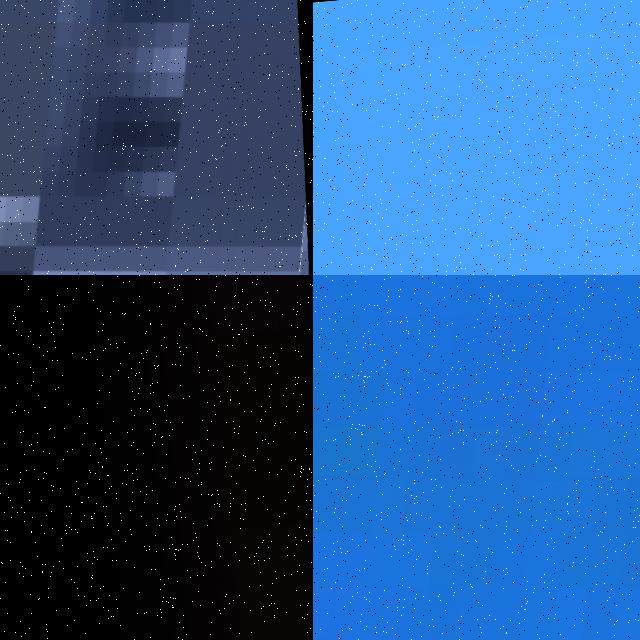0: (0, 0, 313, 275)
drone: (313, 275, 640, 640)
